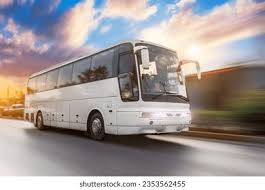bus: (23, 40, 202, 141)
